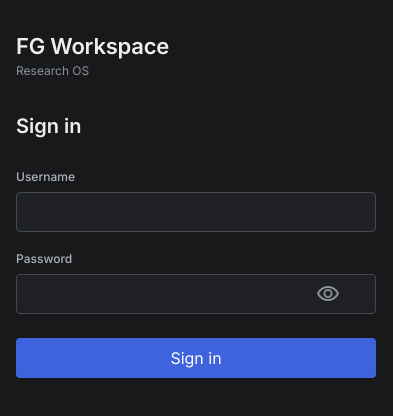
Scenario: LoginPage › shows field errors for empty fields on submit and clears them while typing
The width and height of the screenshot is (393, 416).
Click the button "Sign in" at (196, 358), box [16,338,376,378]
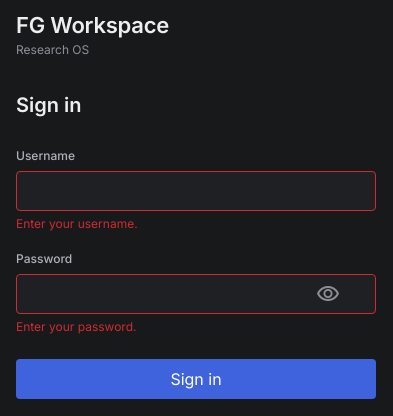
Check: the text "Enter your username." is shown, box [16,216,138,231]
Check: the text "Enter your password." is shown, box [16,319,136,334]
Type "alex" into the field labelled "Username" at (196, 191), box [16,171,376,211]
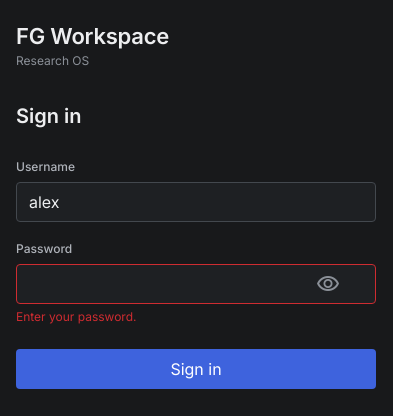
Check: the text "Enter your password." is shown, box [16,308,136,324]
Check: the text "Enter your username." is gone
